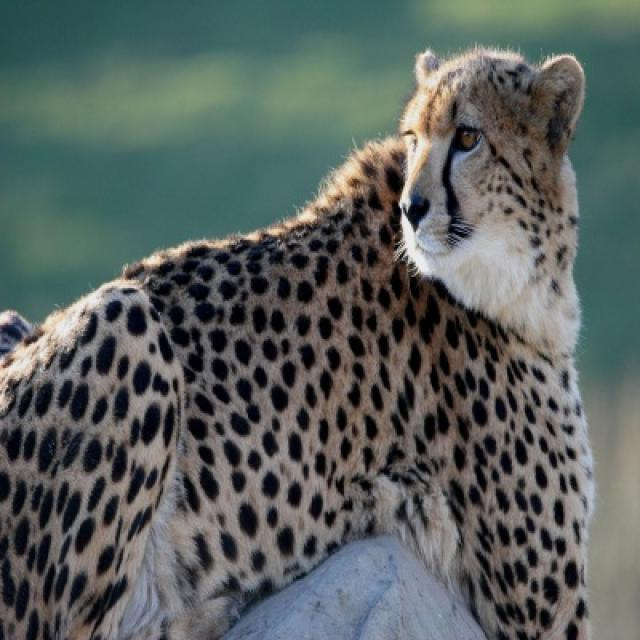Cheetah: (0, 48, 598, 638)
